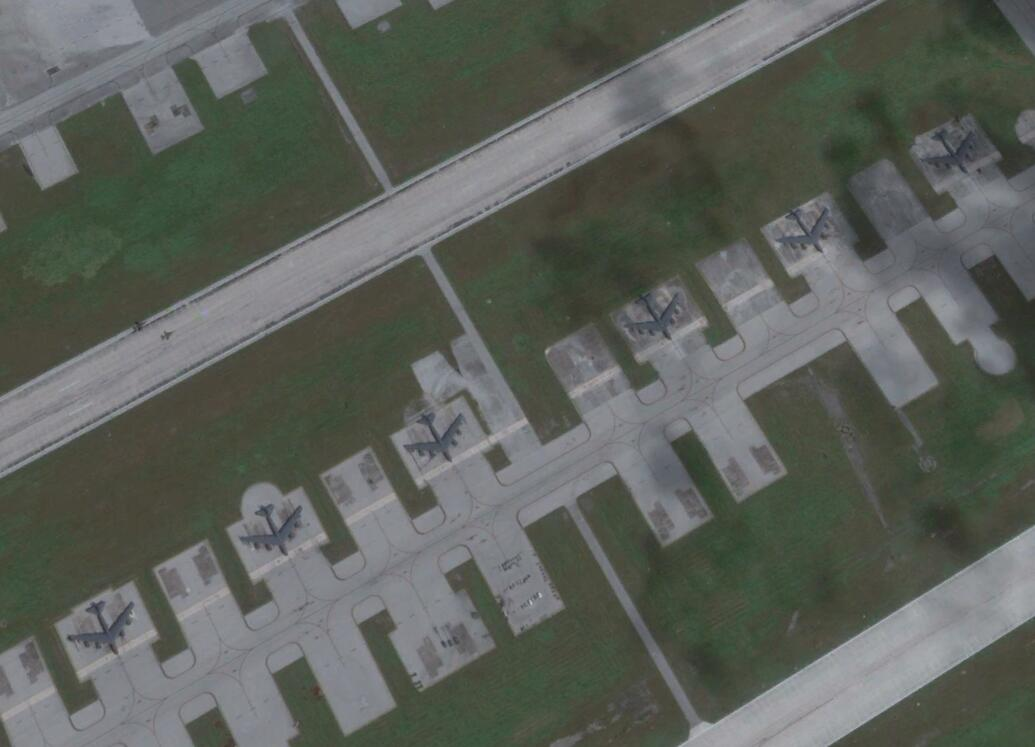A8: (68, 601, 140, 658), (402, 408, 471, 466), (239, 502, 308, 560), (625, 291, 688, 345), (775, 203, 836, 253), (923, 126, 982, 175)
